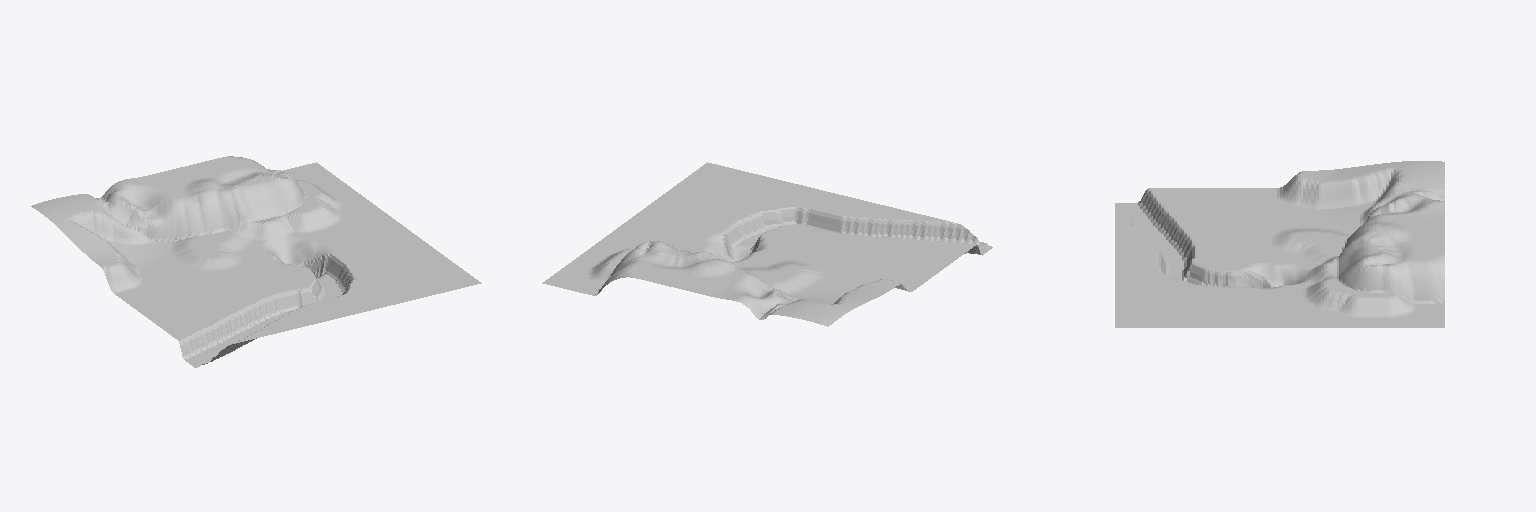
Rendered from Terrain.obj.
3 renders of one model, left to right at view 1: azimuth 30°, elevation 25°; view 2: azimuth 150°, elevation 25°; view 3: azimuth 270°, elevation 25°, orthographic.
Parts seen in each view (by area): view 1: Ground; view 2: Ground; view 3: Ground.
Boxes of the visible parts, x1=… form: Ground: x1=31, y1=156, x2=481, y2=367; Ground: x1=542, y1=162, x2=992, y2=326; Ground: x1=1115, y1=161, x2=1444, y2=327.
Size of the model in its own units: 108 by 22.01 by 108.